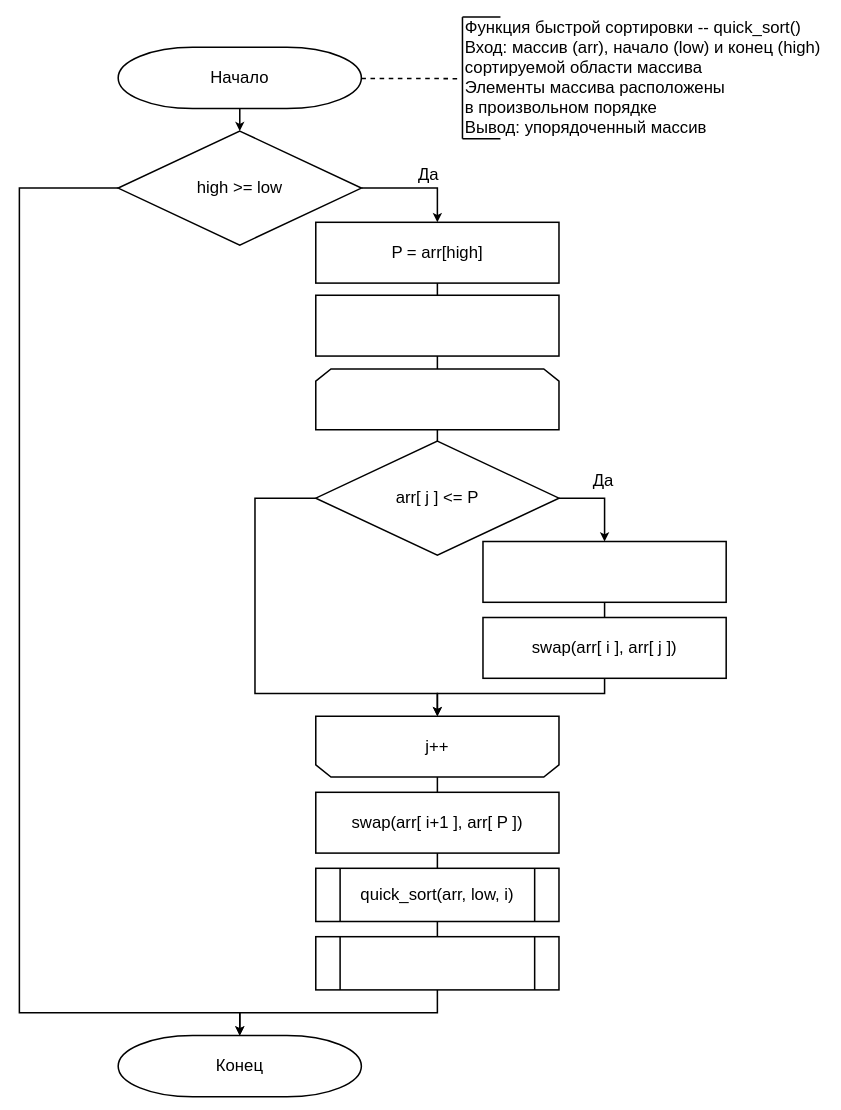
The diagram is 841 pixels wide and 1110 high, and some of its shapes have lost their labels. The centre of each missing label's shape, as x and y in pixels:
For j := low To high: point (437, 399)
i ++: point (604, 571)
i = low + 1: point (437, 325)
quick_sort(arr, i + 2, high): point (437, 963)
